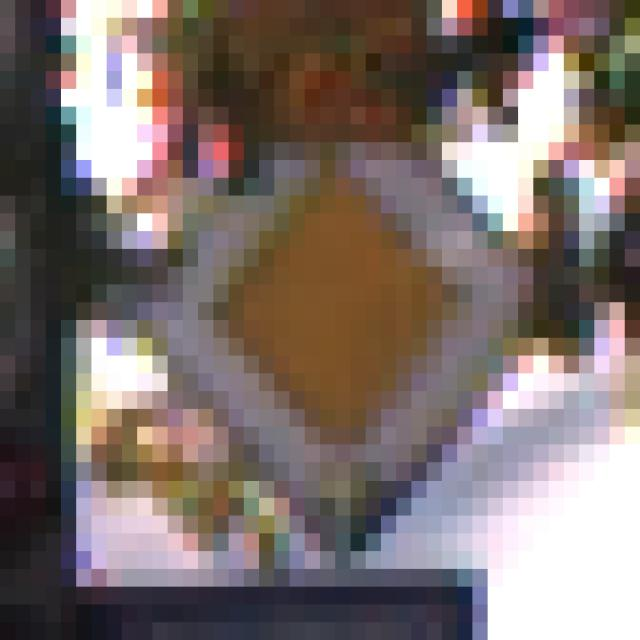Main Road: (92, 90, 565, 552)
